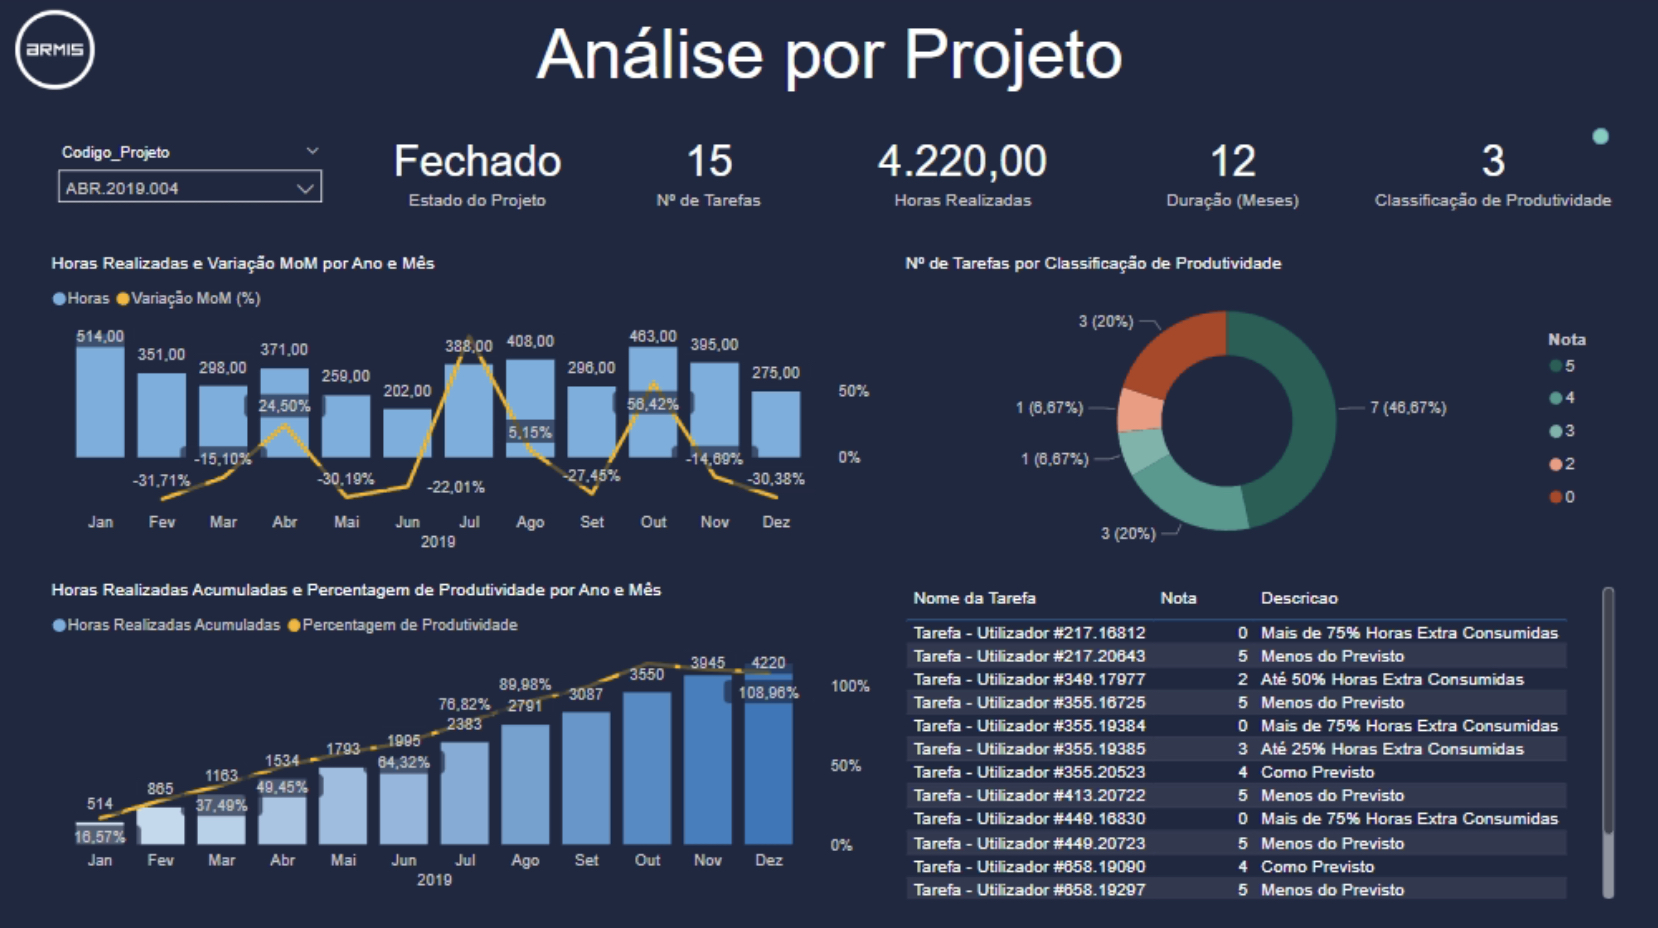

The dashboard page shown, as its layout file describes it:
{"tool":"powerbi","page":{"name":"Análise por Projeto","canvas":[1280,720],"ordinal":2},"visuals":[{"type":"image","box":[5.1,6.4,77.8,71.4],"z":0},{"type":"card","fields":{"Values":["Produtividade de Projetos.Horas Realizadas (Projeto)"]},"box":[639.3,98.2,207.6,72],"z":1000},{"type":"lineStackedColumnComboChart","title":"Horas Realizadas e Variação MoM por Ano e Mês","fields":{"Category":["Calendário.Ano","Calendário.Mes_Abrev"],"Y2":["Produtividade de Projetos.Variação (%) MoM de Horas Realizadas (Projeto)"],"Y":["Produtividade de Projetos.Horas Realizadas (Projeto)"]},"box":[36.9,199,640.4,241.7],"z":2000},{"type":"card","fields":{"Values":["Produtividade de Projetos.Classificação de Projeto"]},"box":[1053.1,98.2,195.1,72],"z":3000},{"type":"lineClusteredColumnComboChart","title":"Horas Realizadas Acumuladas e Percentagem de Produtividade por Ano e Mês","fields":{"Category":["Calendário.Ano","Calendário.Mes_Abrev"],"Y":["Produtividade de Projetos.Horas Realizadas Até à Data (Projeto)"],"Y2":["Produtividade de Projetos.Horas Consumidas"]},"box":[37,450,640,249.9],"z":4000},{"type":"tableEx","fields":{"Values":["Tarefa.Tarefa Única","Classificação de Produtividade.Nota","Classificação de Produtividade.Descricao"]},"box":[693.2,450.1,555,250.4],"z":5000},{"type":"donutChart","title":"Nº de Tarefas por Classificação de Produtividade","fields":{"Y":["Produtividade de Tarefas.Nº de Classificações Distintas"],"Category":["Classificação de Produtividade.Nota"]},"box":[693.2,199,555,241.7],"z":6000},{"type":"card","fields":{"Values":["Produtividade de Tarefas.Nº de Tarefas"]},"box":[496.8,98.2,99.6,72],"z":7000},{"type":"card","fields":{"Values":["Produtividade de Projetos.Duração Projeto (em Meses)"]},"box":[889.8,98.2,120.4,72],"z":8000},{"type":"slicer","fields":{"Values":["Projeto.Codigo_Projeto"]},"box":[37.2,107.8,223.1,62],"z":9000},{"type":"textbox","box":[384.7,9.7,510.6,77.5],"z":10000},{"type":"card","fields":{"Values":["Produtividade de Projetos.Estado do Projeto"]},"box":[283.7,98.2,170.2,72],"z":11000},{"type":"shape","box":[1226.5,102,12.7,12.7],"z":11501}]}

Visuals, with their boxes in screenshot pixels (x1, y1, x2, y2), scaled from the page's 1280x720 canvas onto the 1658x928 screenshot:
image: bbox=[7, 8, 107, 100]
card - Produtividade de Projetos.Horas Realizadas (Projeto): bbox=[828, 127, 1097, 219]
"Horas Realizadas e Variação MoM por Ano e Mês" lineStackedColumnComboChart: bbox=[48, 256, 877, 568]
card - Produtividade de Projetos.Classificação de Projeto: bbox=[1364, 127, 1617, 219]
"Horas Realizadas Acumuladas e Percentagem de Produtividade por Ano e Mês" lineClusteredColumnComboChart: bbox=[48, 580, 877, 902]
tableEx - Tarefa.Tarefa Única x Classificação de Produtividade.Nota: bbox=[898, 580, 1617, 903]
"Nº de Tarefas por Classificação de Produtividade" donutChart: bbox=[898, 256, 1617, 568]
card - Produtividade de Tarefas.Nº de Tarefas: bbox=[644, 127, 773, 219]
card - Produtividade de Projetos.Duração Projeto (em Meses): bbox=[1153, 127, 1309, 219]
slicer - Projeto.Codigo_Projeto: bbox=[48, 139, 337, 219]
textbox: bbox=[498, 13, 1160, 112]
card - Produtividade de Projetos.Estado do Projeto: bbox=[367, 127, 588, 219]
shape: bbox=[1589, 131, 1605, 148]
